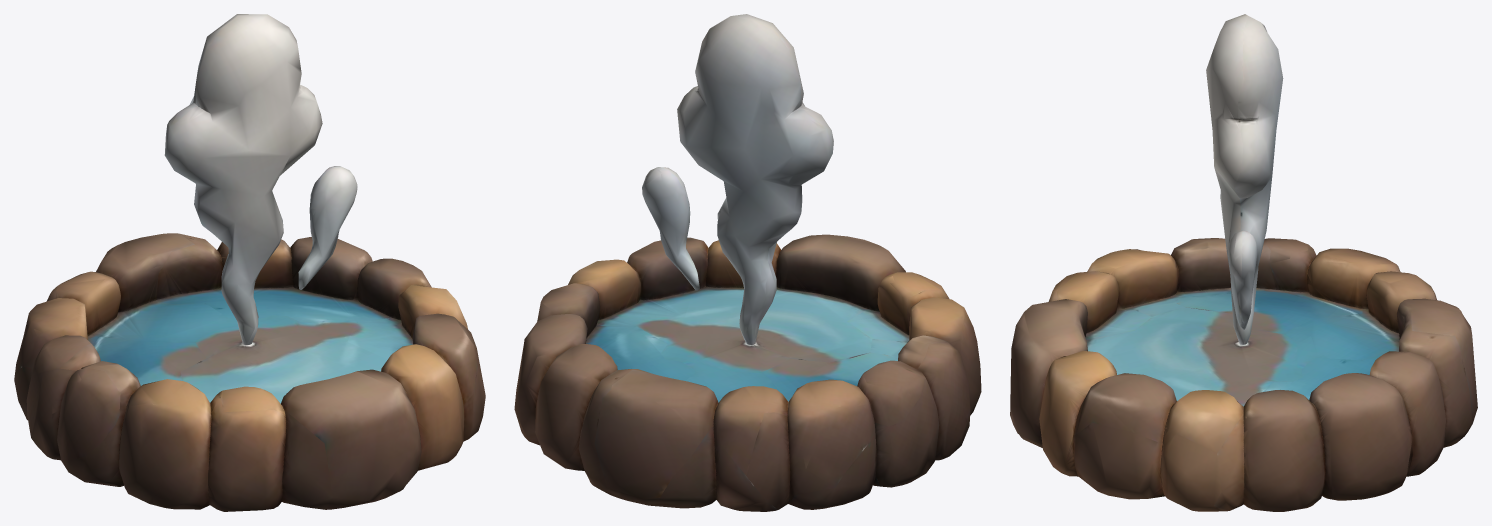
Rendered from spring_pbr.glb.
3 renders of one model, left to right at view 1: azimuth 30°, elevation 25°; view 2: azimuth 150°, elevation 25°; view 3: azimuth 270°, elevation 25°, orthographic.
Visible parts, largest first — view 1: model; view 2: model; view 3: model.
Boxes of the visible parts, left/top/right/bottom form: model: left=14, top=14, right=485, bottom=511; model: left=514, top=14, right=981, bottom=511; model: left=1010, top=14, right=1477, bottom=511.
Bounding box in the file's own units: 1.75 × 1.72 × 1.8.
1 material, 1 textured.
